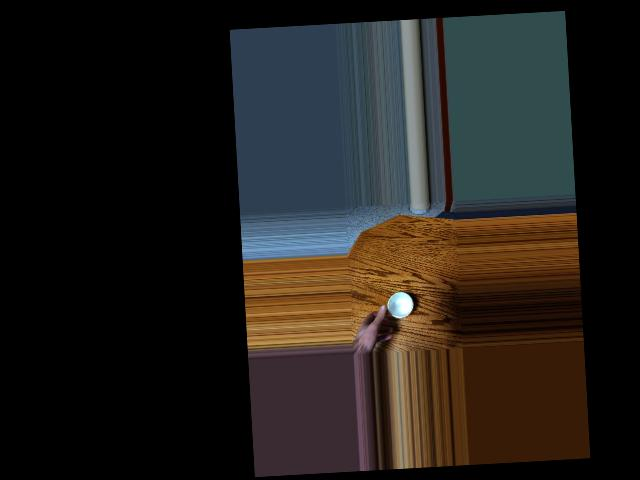cotage: (379, 286, 417, 324)
